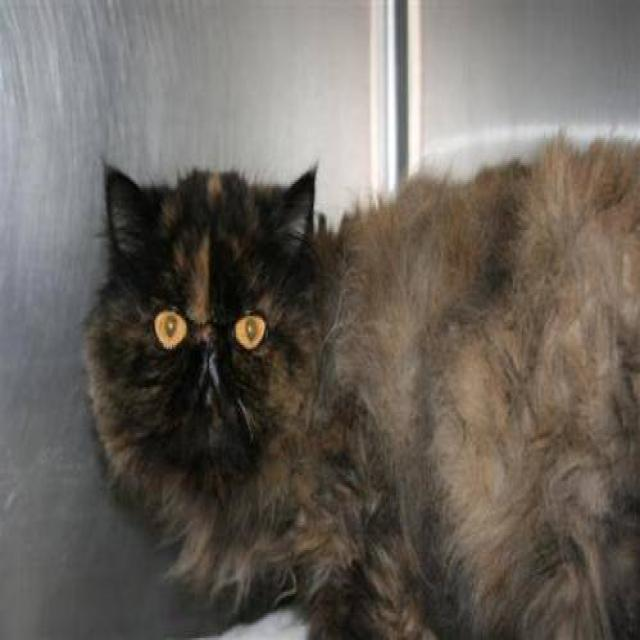cat: (81, 130, 639, 638)
